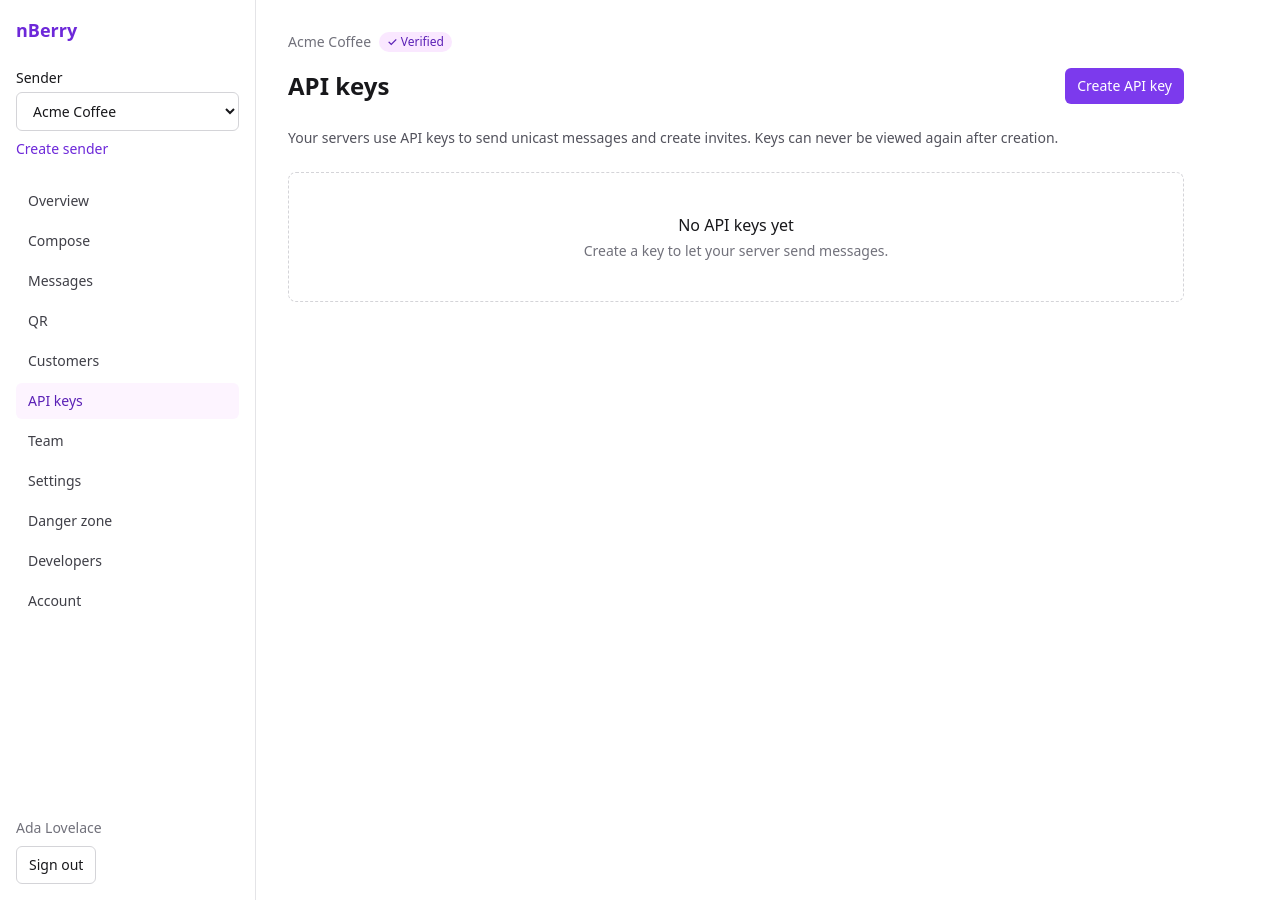
Test case: API keys › too_many_keys shows friendly copy
Click the button "Create API key": point(1125, 86) [1065,68,1184,104]
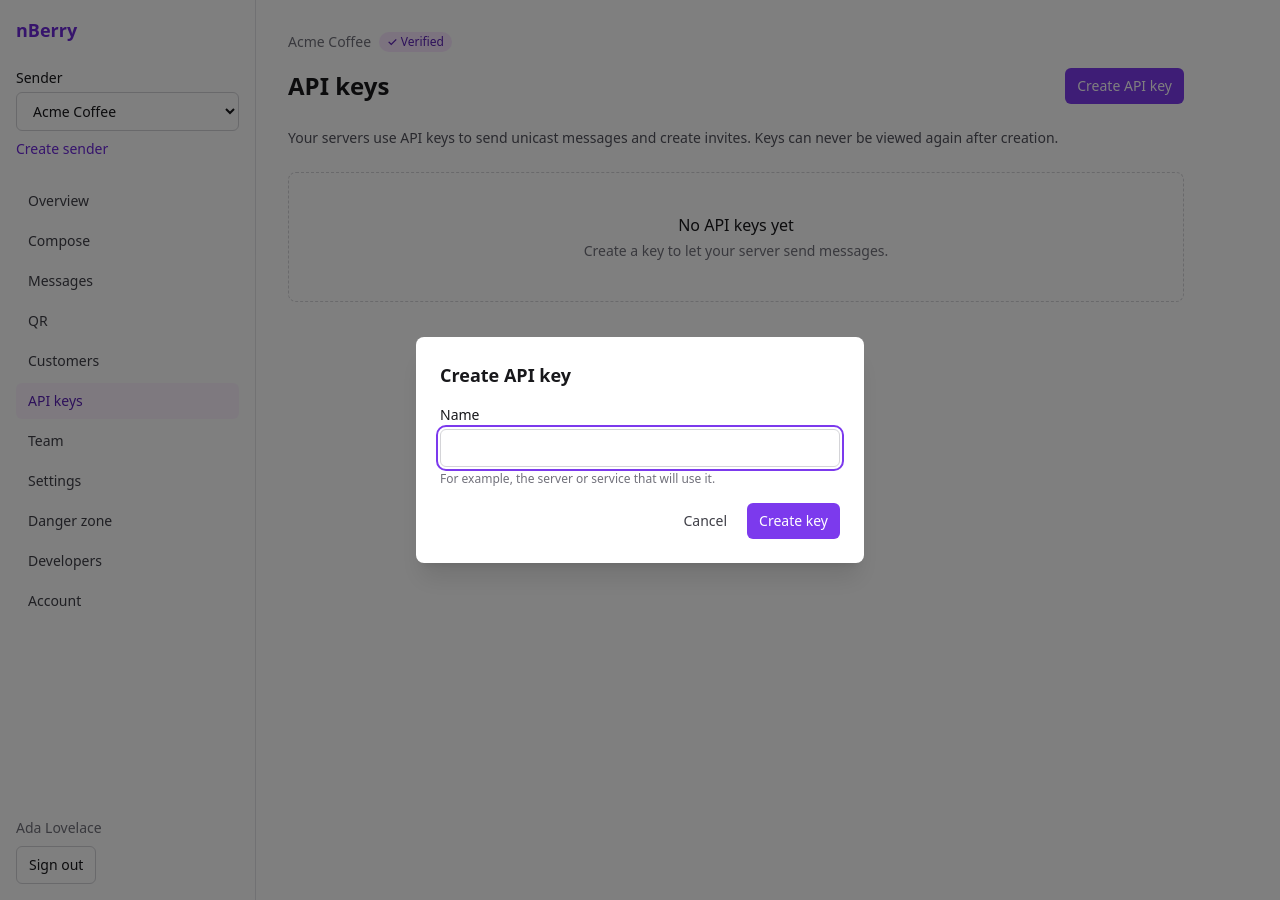
In the field labelled "Name": point(640, 448) [440,429,840,467], type "x"
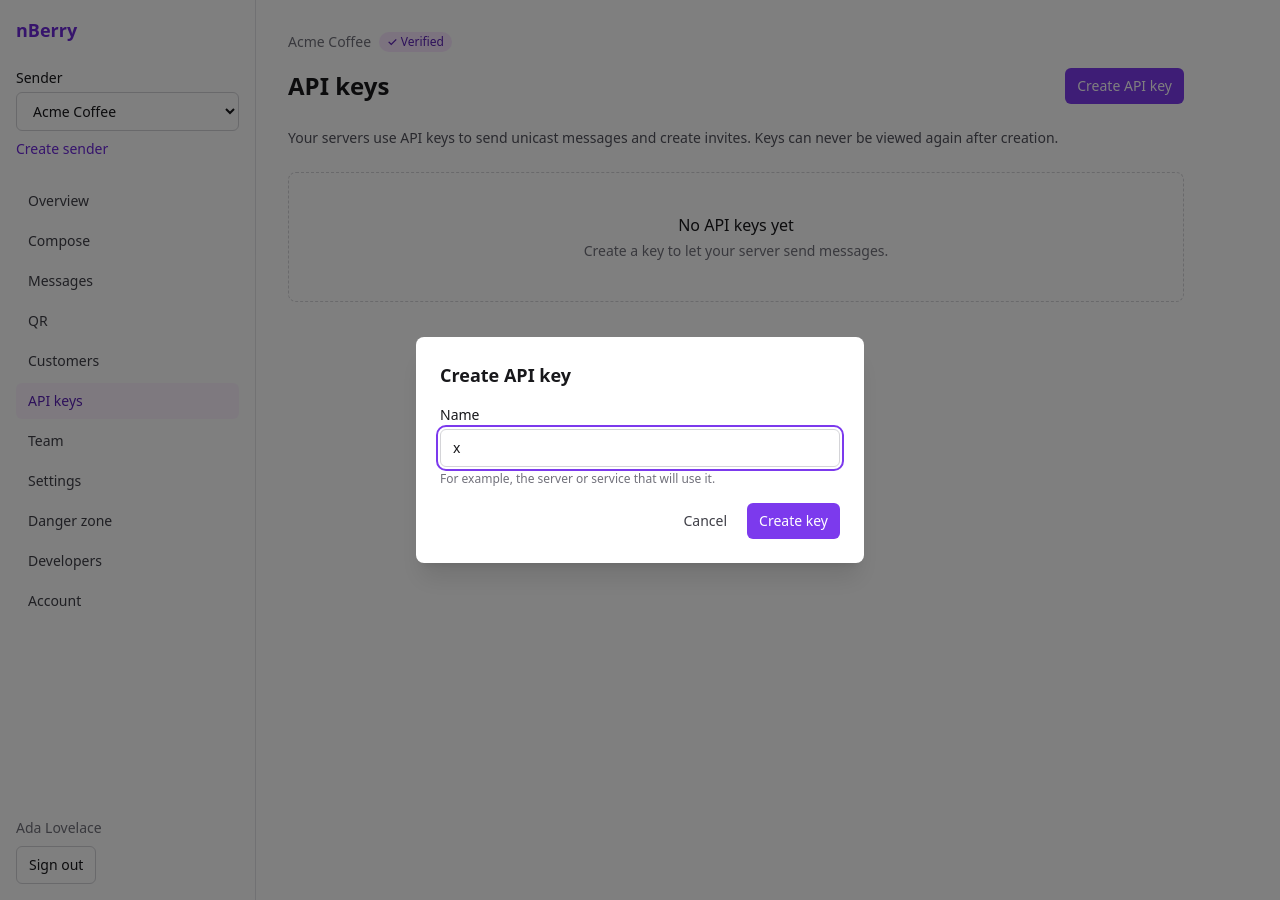
Click the button "Create key": point(794, 521) [747,503,840,539]
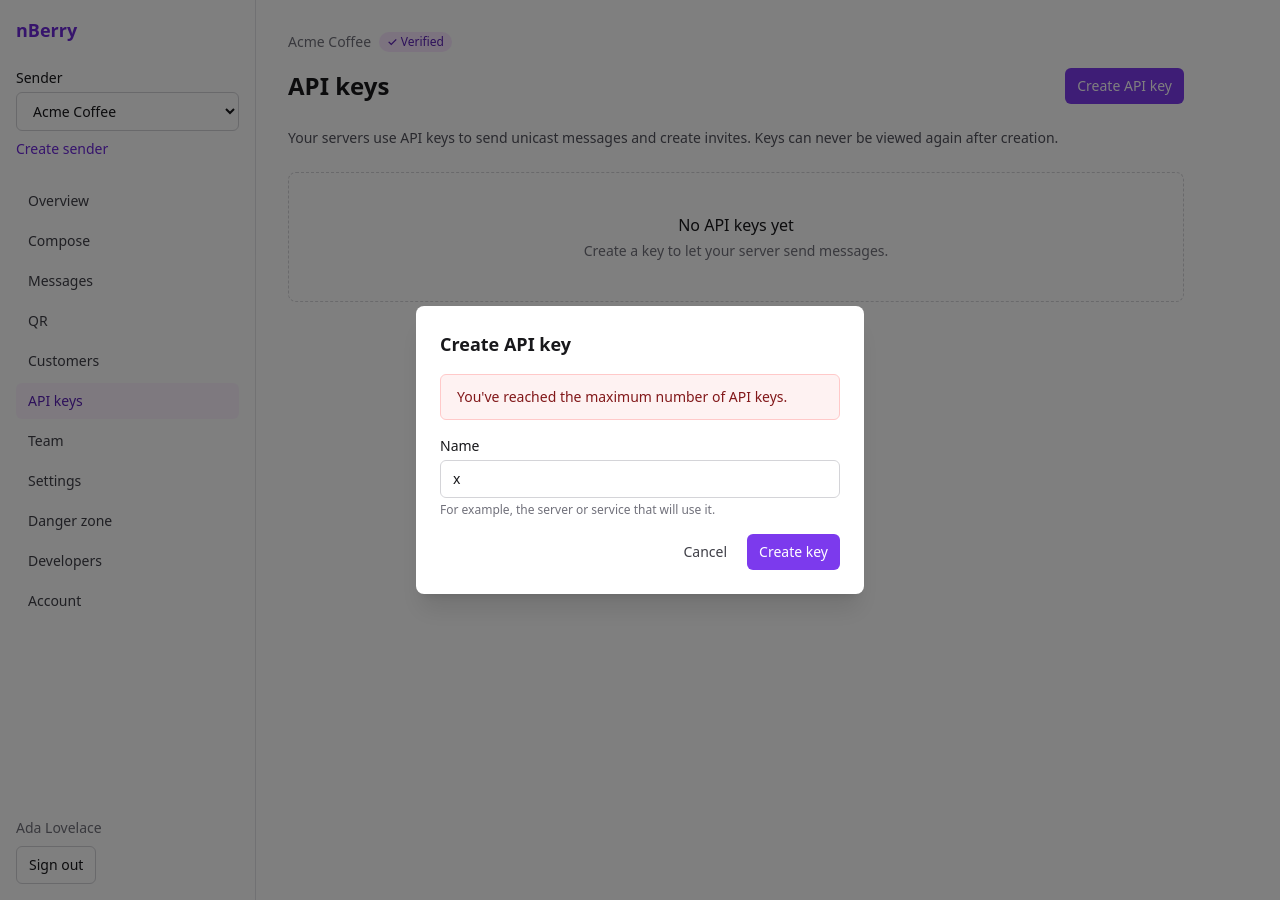
Now the text "You've reached the maximum number of API keys." is shown, box [440,374,840,420]
